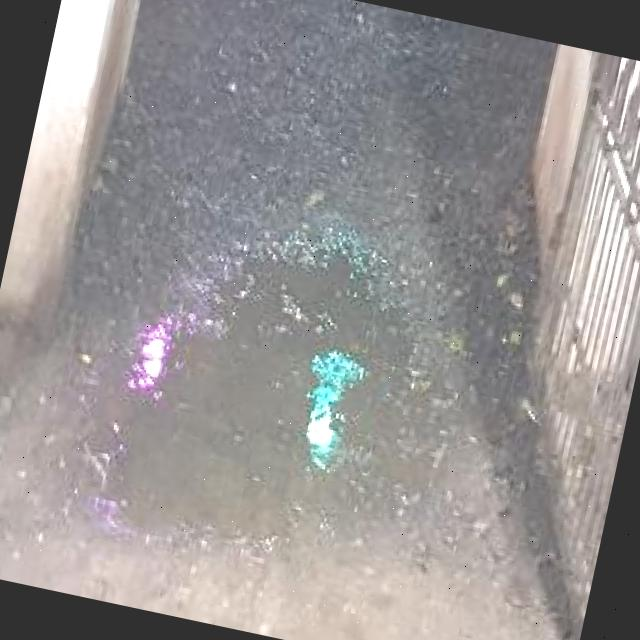stagnation: (78, 208, 413, 582)
